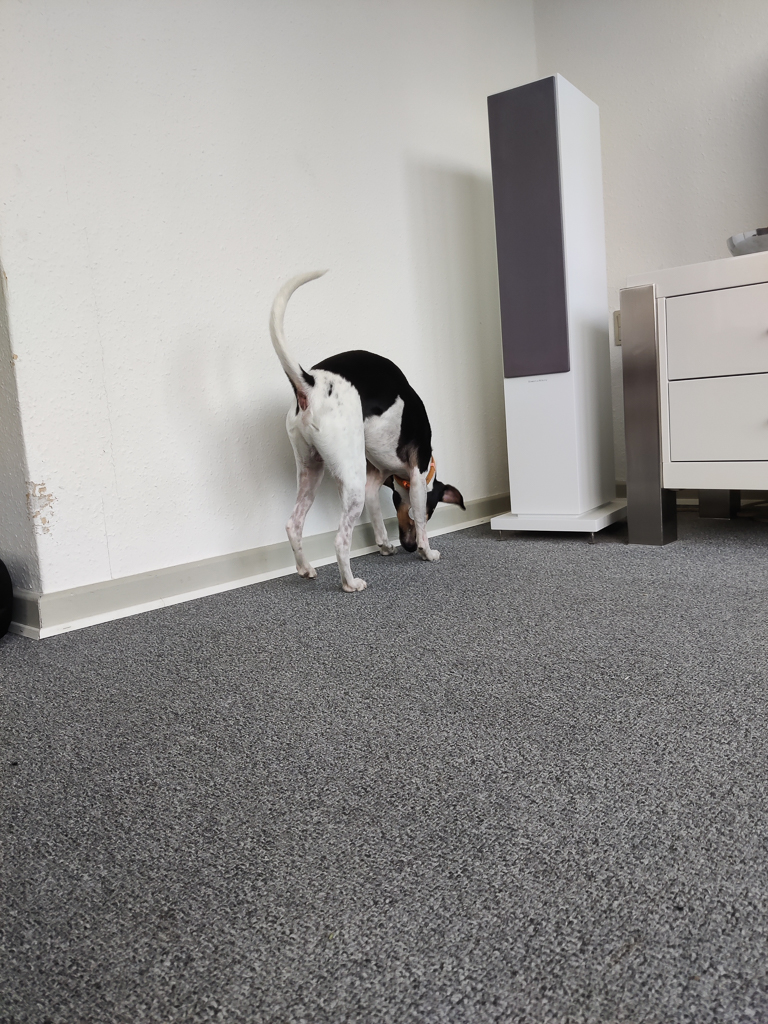Dog: (255, 261, 480, 602)
